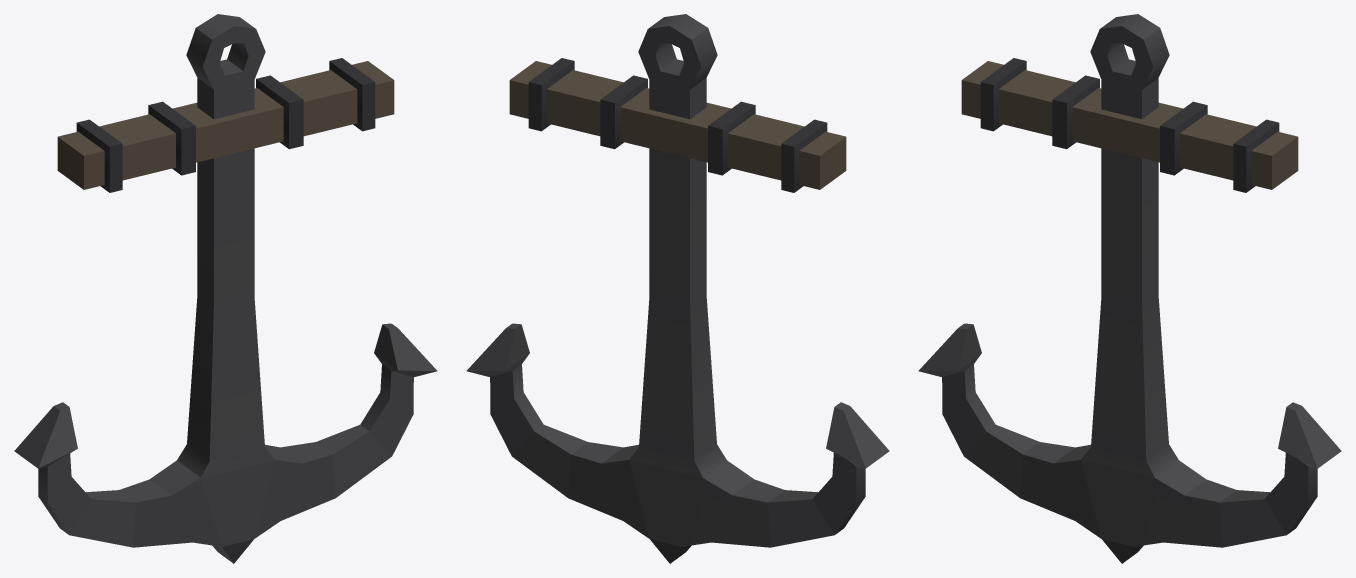
The model's file is SM_Prop_Anchor_01.glb.
The picture shows the model from 3 angles, left to right: view 1: azimuth 30°, elevation 25°; view 2: azimuth 150°, elevation 25°; view 3: azimuth 330°, elevation 25°; orthographic projection.
Parts seen in each view (by area): view 1: SM_Prop_Anchor_01; view 2: SM_Prop_Anchor_01; view 3: SM_Prop_Anchor_01.
Part boxes in pixels (x1,y1,x2,y2): SM_Prop_Anchor_01: [14, 14, 437, 563]; SM_Prop_Anchor_01: [466, 14, 889, 563]; SM_Prop_Anchor_01: [918, 14, 1341, 563].
Bounding box in the file's own units: 0.0114 × 0.0147 × 0.00164.
